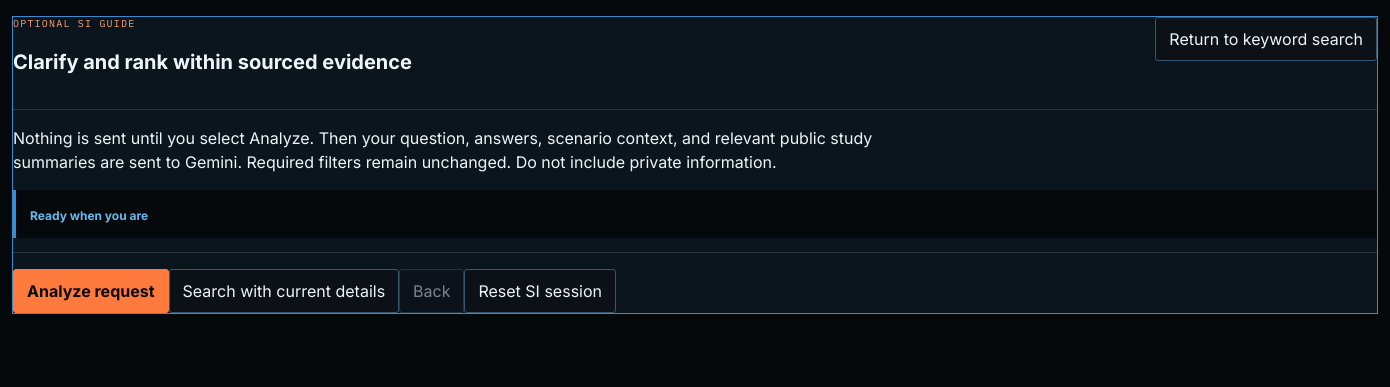
Test: context changes invalidate pending results without another request
The width and height of the screenshot is (1390, 387).
Step 1. Click the button "Analyze request" → (91, 291), box x1=13 y1=269 x2=168 y2=313
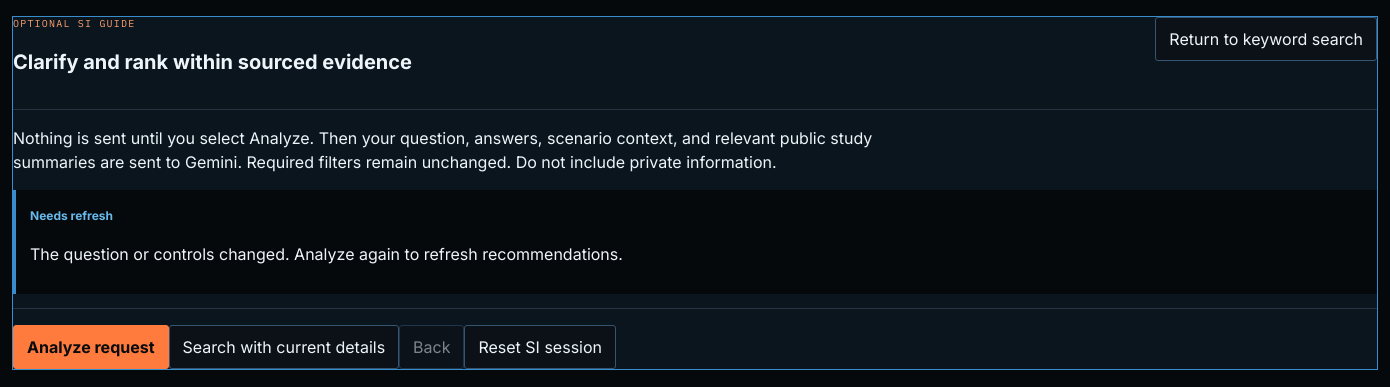
Expected: the text "Needs refresh" is shown, x1=30 y1=208 x2=113 y2=223
